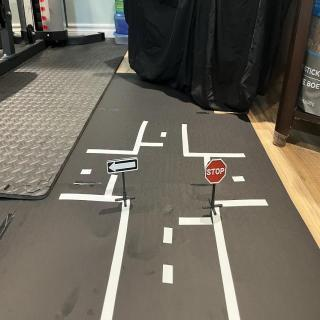sign_oneway_left: (107, 157, 138, 177)
sign_stop: (206, 160, 228, 185)
